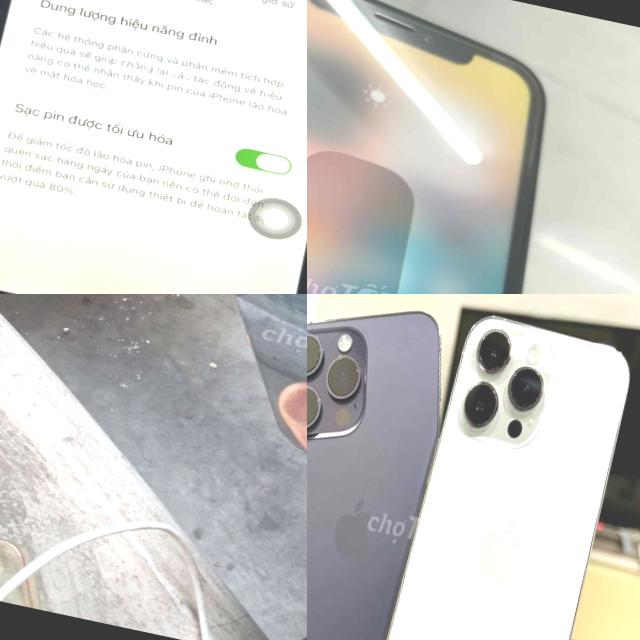gen_12_13: (0, 0, 307, 294), (165, 294, 307, 495)
gen_14: (344, 301, 640, 640)
gen_x_xs: (307, 0, 544, 294)
